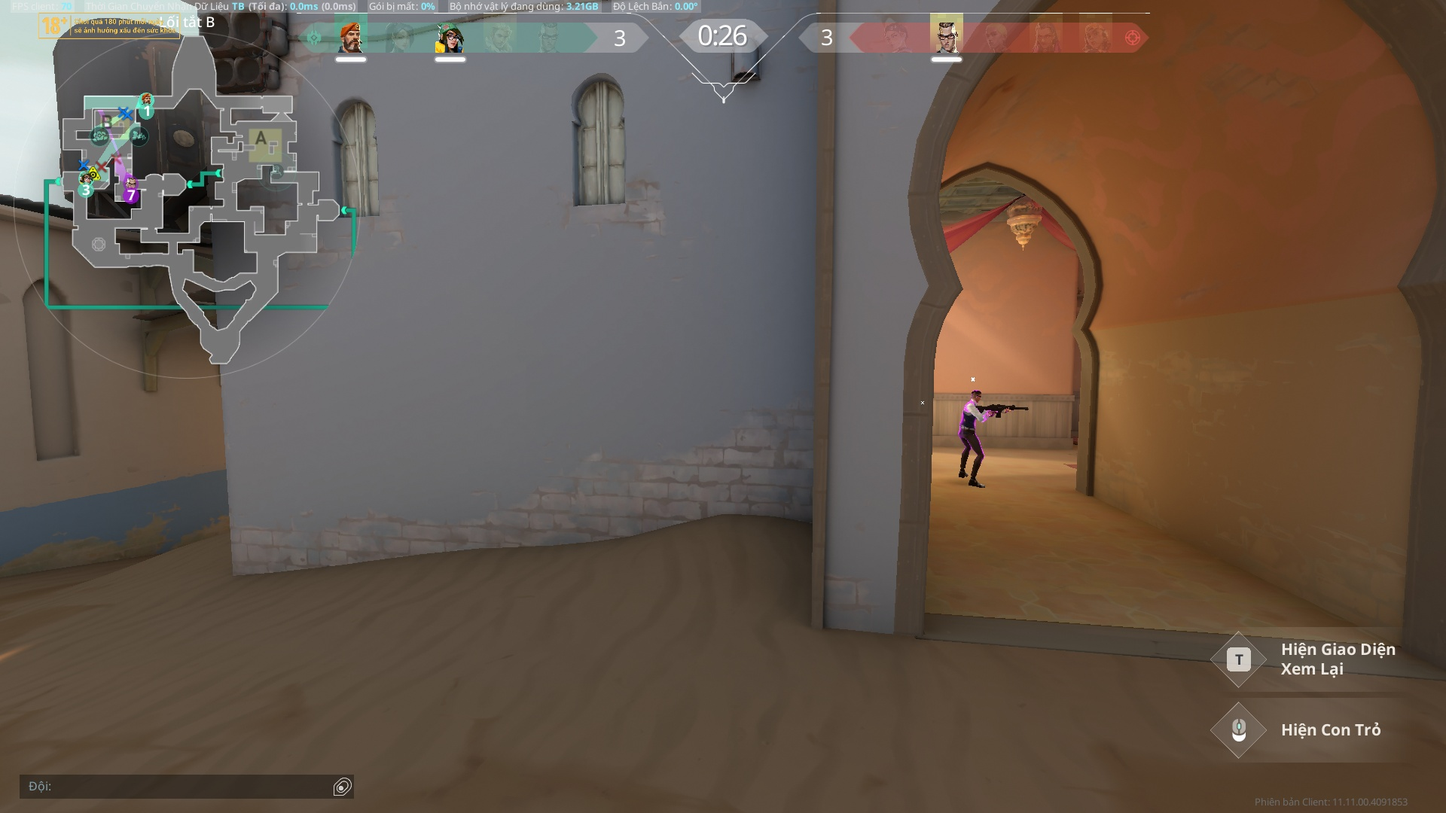body: (962, 401, 978, 425)
head: (969, 389, 980, 400)
